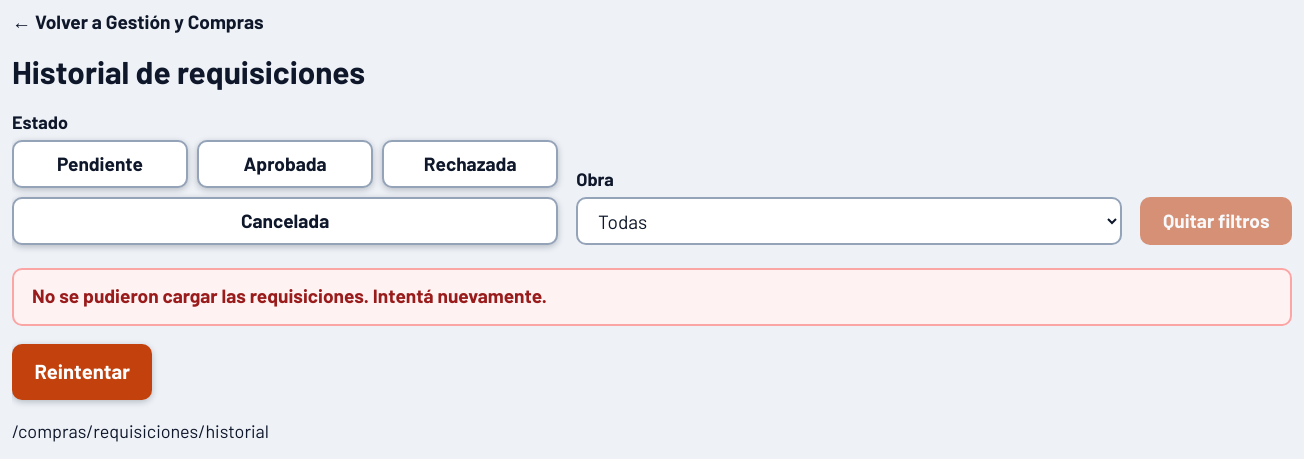
Test: HistorialRequisicionesPage › muestra el error y Reintentar si falla la carga, y se recupera al reintentar
Expected: the message shows "No se pudieron cargar las requisiciones.", [32, 284, 547, 307]
Click the button "Reintentar": [82, 372] box [12, 344, 152, 400]
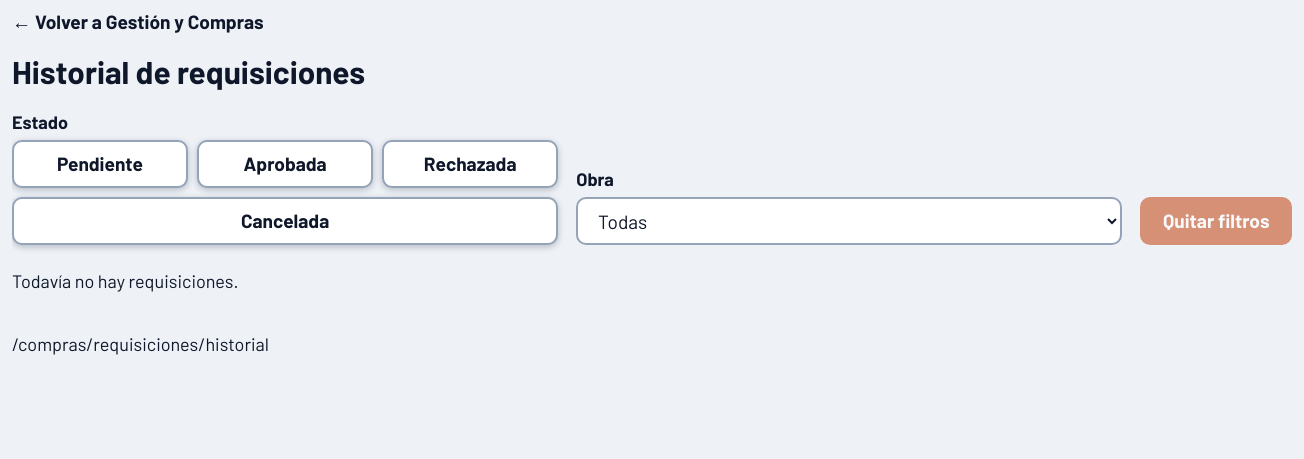
Now the text "Todavía no hay requisiciones." is shown, box [12, 270, 238, 292]
Now the message "No se pudieron cargar las requisiciones. Intentá nuevamente." is gone
